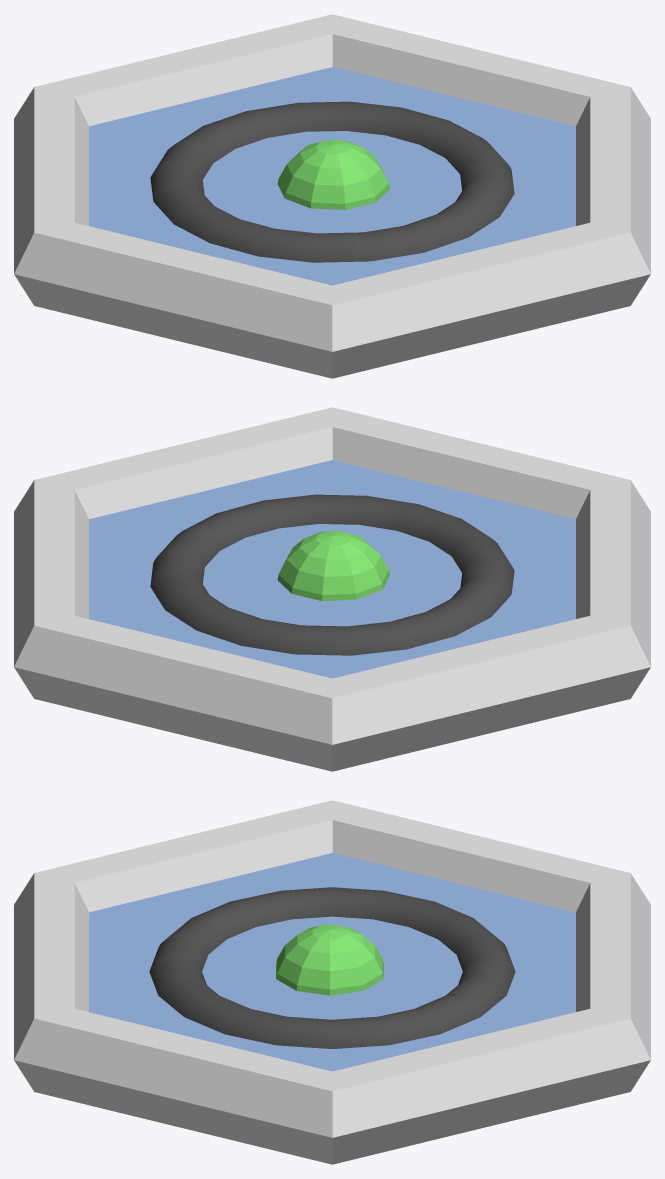
The model's file is tenso.fbx.
The picture shows the model from 3 angles, top to bottom: view 1: azimuth 30°, elevation 25°; view 2: azimuth 150°, elevation 25°; view 3: azimuth 270°, elevation 25°; orthographic projection.
Parts seen in each view (by area): view 1: pTorus1, pCylinder1, pTorus2, pSphere1; view 2: pTorus1, pCylinder1, pTorus2, pSphere1; view 3: pTorus1, pCylinder1, pTorus2, pSphere1.
Part boxes in pixels (<box>): pTorus1: <box>14,14,650,378</box>; pCylinder1: <box>89,67,575,285</box>; pTorus2: <box>150,101,514,262</box>; pSphere1: <box>277,139,389,209</box>; pTorus1: <box>14,407,650,771</box>; pCylinder1: <box>89,460,575,678</box>; pTorus2: <box>150,494,514,655</box>; pSphere1: <box>277,530,389,600</box>; pTorus1: <box>14,800,650,1164</box>; pCylinder1: <box>89,853,575,1071</box>; pTorus2: <box>149,887,515,1048</box>; pSphere1: <box>276,924,383,995</box>.
Bounding box in the file's own units: 12.59 × 2 × 10.9.
